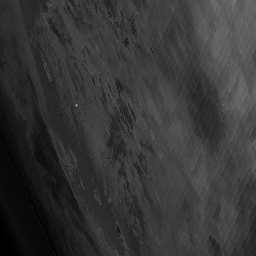Target: (74, 103, 79, 108)
